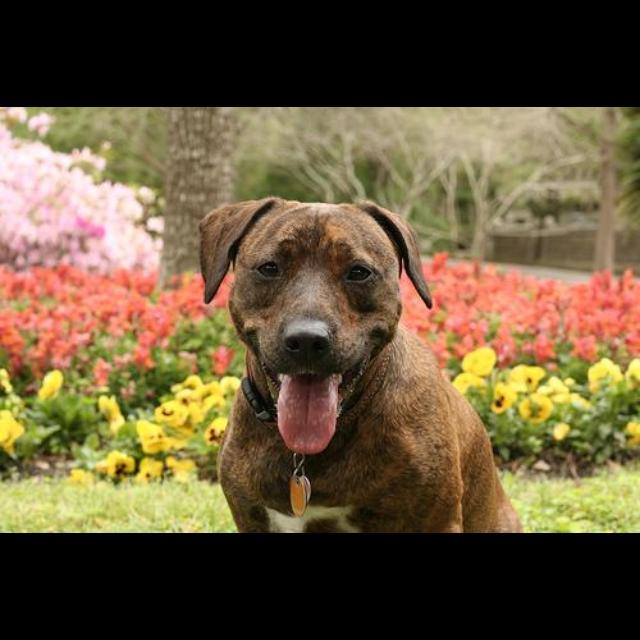amstaff: (198, 196, 525, 533)
